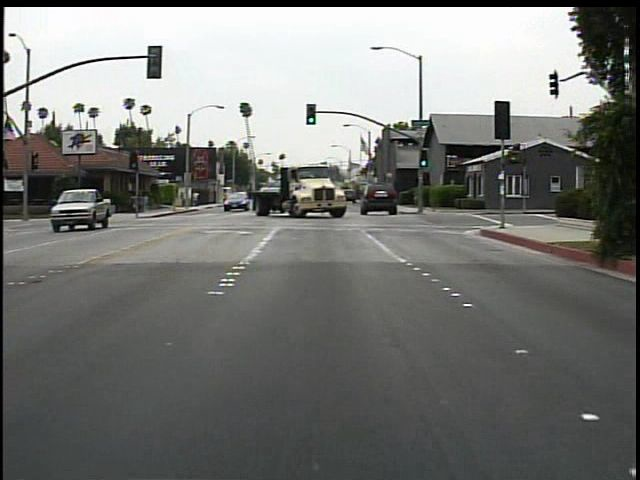person: (191, 187, 203, 209)
